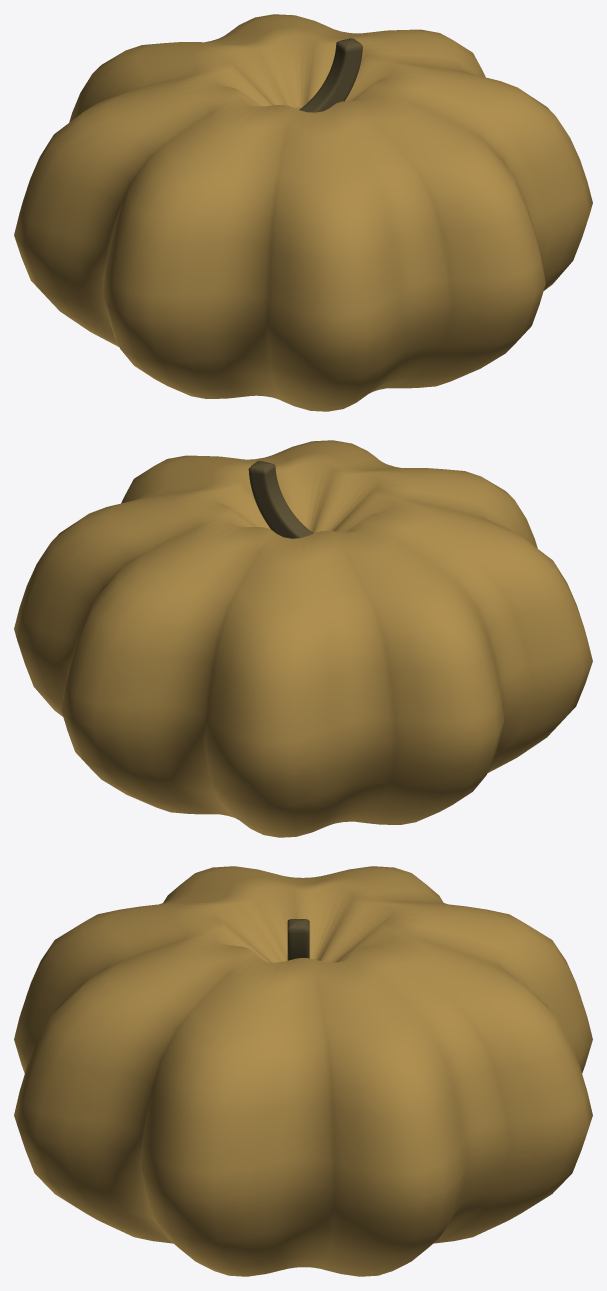
The model's file is тыква.glb.
3 renders of one model, top to bottom at view 1: azimuth 30°, elevation 25°; view 2: azimuth 150°, elevation 25°; view 3: azimuth 270°, elevation 25°, orthographic. The views are drawn at different scales.
Visible parts, largest first — view 1: это 2, это3; view 2: это 2, это3; view 3: это 2, это3.
Boxes of the visible parts, box(x1,y1,x2,y2) form: это 2: box(14, 14, 592, 411); это3: box(299, 38, 362, 112); это 2: box(14, 440, 592, 837); это3: box(248, 460, 313, 538); это 2: box(14, 866, 592, 1276); это3: box(287, 919, 309, 960).
Size of the model in its own units: 1.34 by 0.8465 by 1.34.
